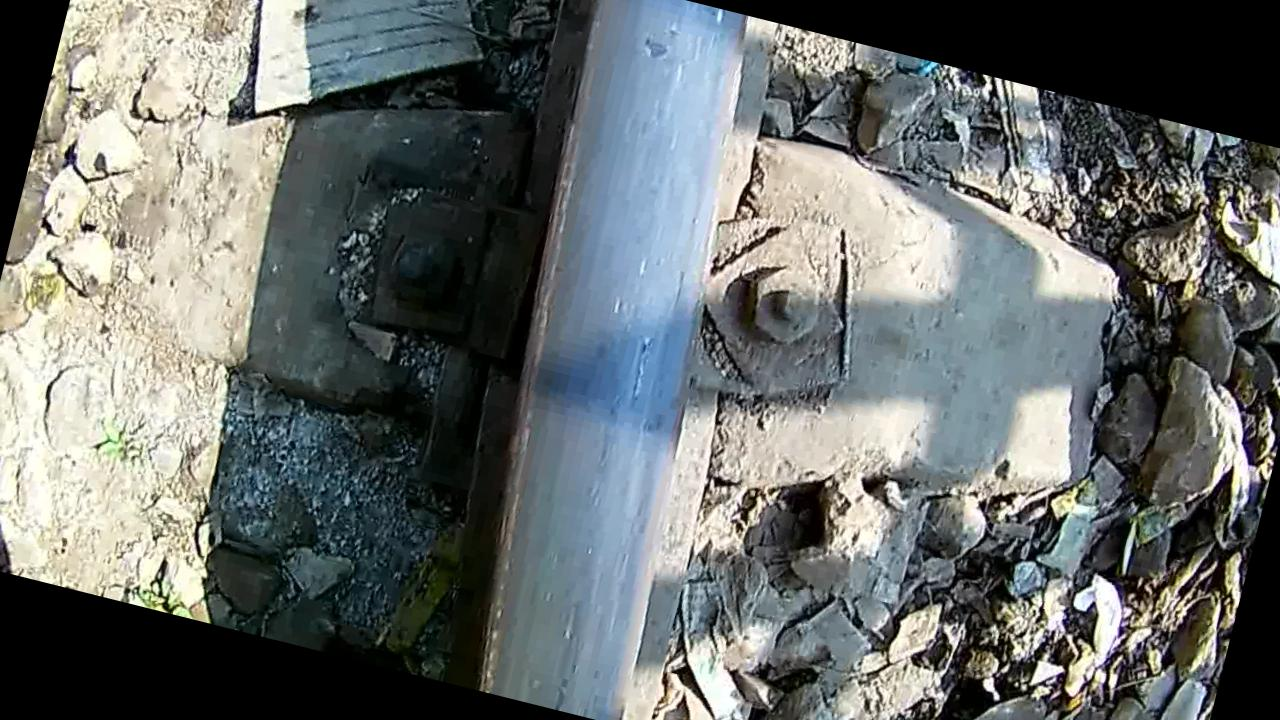crack: (601, 0, 731, 104)
